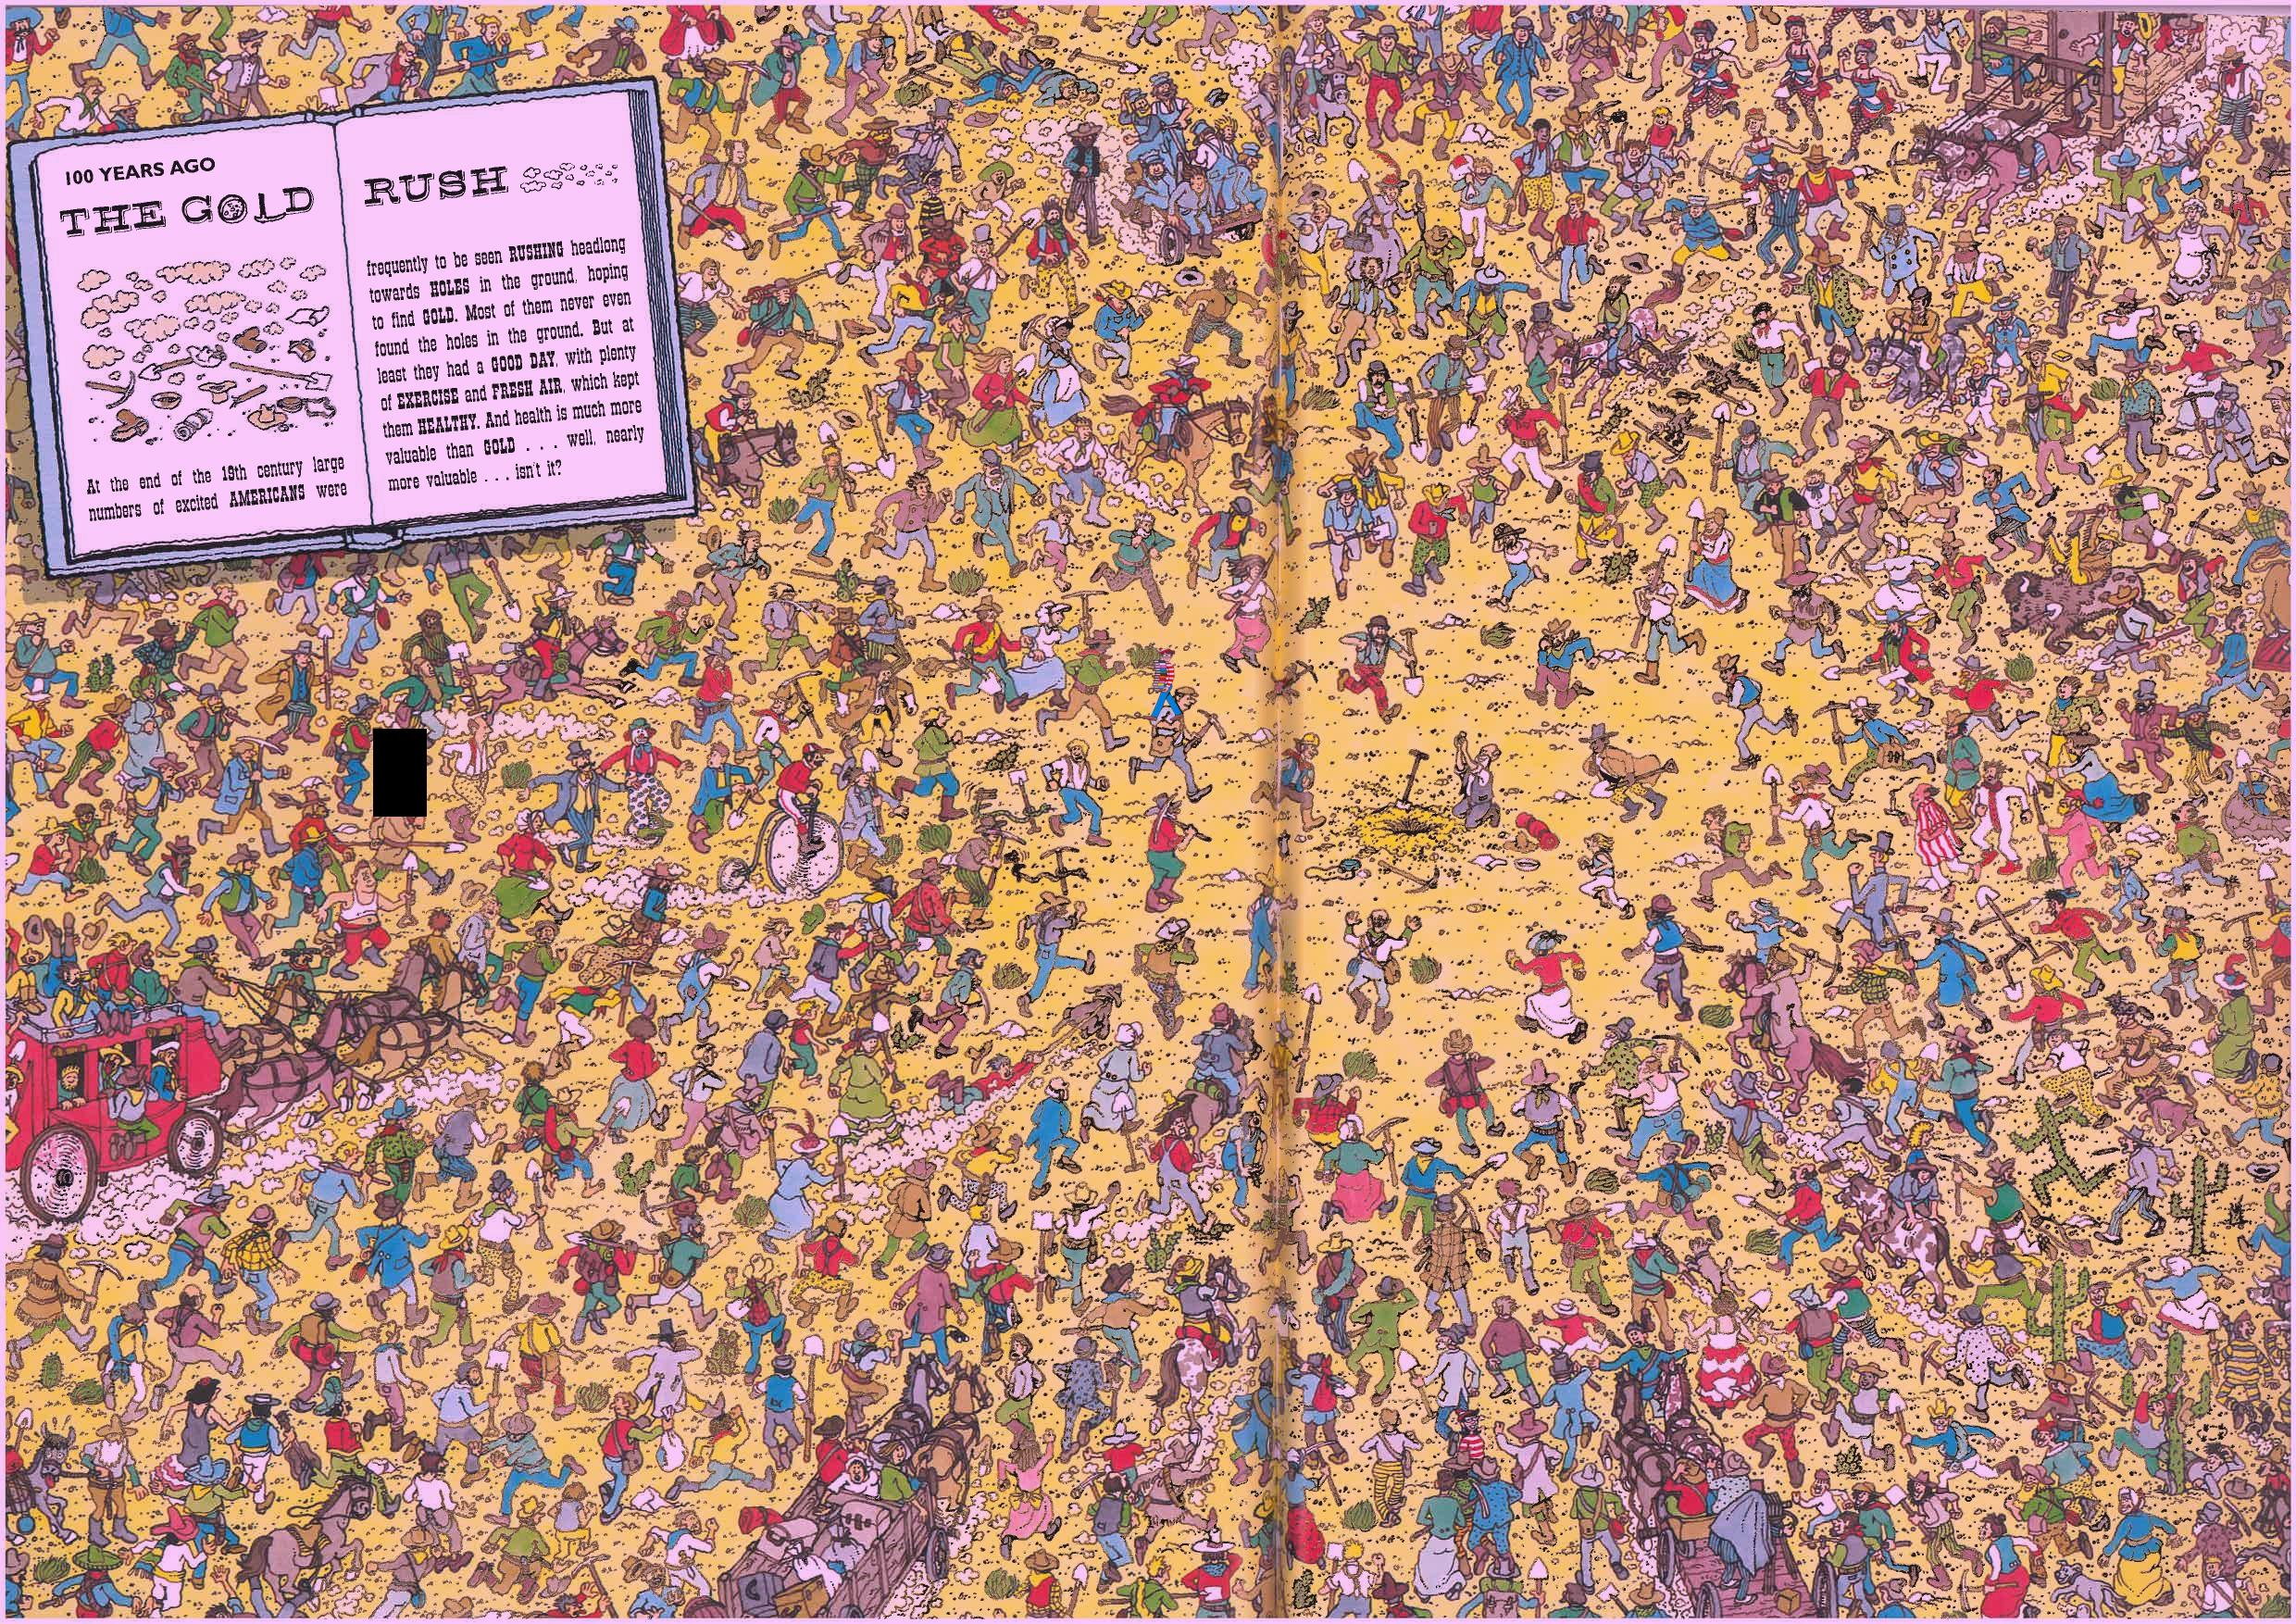waldos: (1138, 642, 1193, 729)
